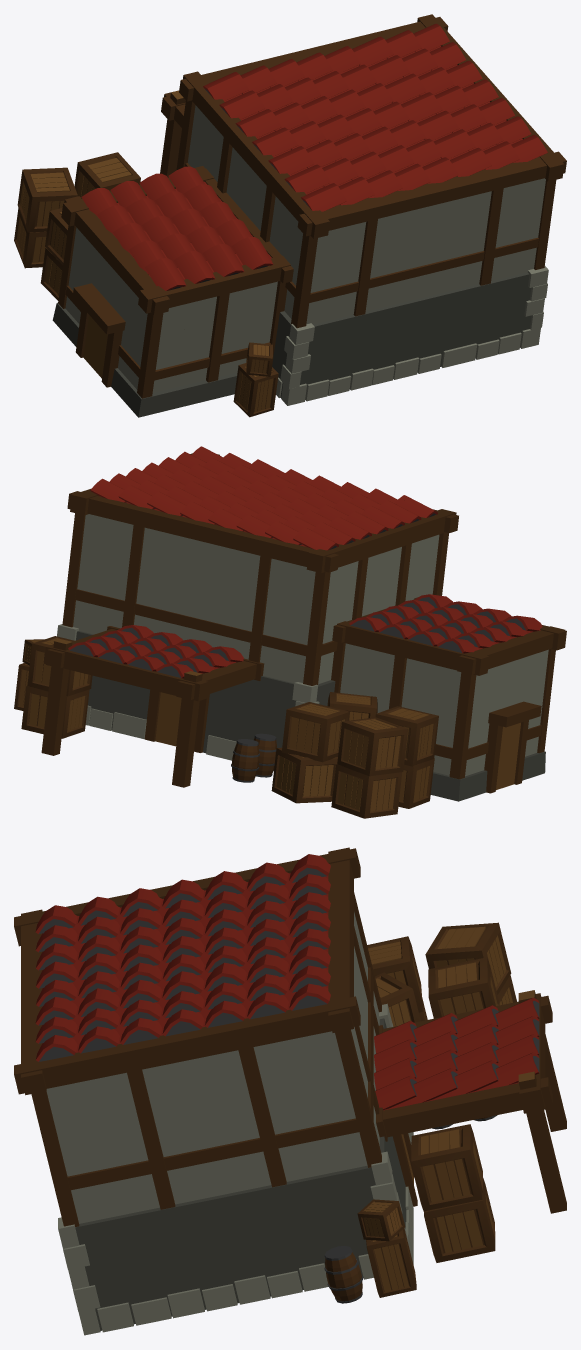
File: Storage_SecondAge_Level3_root.fbx
3 renders of one model, top to bottom at view 1: azimuth 30°, elevation 25°; view 2: azimuth 150°, elevation 25°; view 3: azimuth 270°, elevation 25°, orthographic. The views are drawn at different scales.
Visible parts, largest first — view 1: Storage_SecondAge_Level3_sh_11, Storage_SecondAge_Level3_sh_29, Storage_SecondAge_Level3_sh_26, Storage_SecondAge_Level3_sh_22, Storage_SecondAge_Level3_sh_5, Storage_SecondAge_Level3_sh_1, Storage_SecondAge_Level3_sh_7, Storage_SecondAge_Level3_sh_27, Storage_SecondAge_Level3_sh_8, Storage_SecondAge_Level3_sh_20, Storage_SecondAge_Level3_sh_30, Storage_SecondAge_Level3_sh_19 (+10 smaller); view 2: Storage_SecondAge_Level3_sh_27, Storage_SecondAge_Level3_sh_10, Storage_SecondAge_Level3_sh_20, Storage_SecondAge_Level3_sh_12, Storage_SecondAge_Level3_sh_4, Storage_SecondAge_Level3_sh_13, Storage_SecondAge_Level3_sh_15, Storage_SecondAge_Level3_sh_30, Storage_SecondAge_Level3_sh_6, Storage_SecondAge_Level3_sh_2, Storage_SecondAge_Level3_sh_17, Storage_SecondAge_Level3_sh_19 (+10 smaller); view 3: Storage_SecondAge_Level3_sh_28, Storage_SecondAge_Level3_sh_26, Storage_SecondAge_Level3_sh_17, Storage_SecondAge_Level3_sh_30, Storage_SecondAge_Level3_sh_6, Storage_SecondAge_Level3_sh_9, Storage_SecondAge_Level3_sh_13, Storage_SecondAge_Level3_sh_29, Storage_SecondAge_Level3_sh_10, Storage_SecondAge_Level3_sh_14, Storage_SecondAge_Level3_sh_12, Storage_SecondAge_Level3_sh_4 (+6 smaller).
Part boxes in pixels (<box>): Storage_SecondAge_Level3_sh_11: <box>185,226,341,410</box>; Storage_SecondAge_Level3_sh_29: <box>322,123,512,243</box>; Storage_SecondAge_Level3_sh_26: <box>377,64,546,241</box>; Storage_SecondAge_Level3_sh_22: <box>282,185,418,308</box>; Storage_SecondAge_Level3_sh_5: <box>99,255,197,417</box>; Storage_SecondAge_Level3_sh_1: <box>105,226,271,417</box>; Storage_SecondAge_Level3_sh_7: <box>403,241,514,377</box>; Storage_SecondAge_Level3_sh_27: <box>99,72,241,229</box>; Storage_SecondAge_Level3_sh_8: <box>305,273,431,394</box>; Storage_SecondAge_Level3_sh_20: <box>60,188,154,345</box>; Storage_SecondAge_Level3_sh_30: <box>317,17,477,98</box>; Storage_SecondAge_Level3_sh_19: <box>214,119,324,230</box>; Storage_SecondAge_Level3_sh_27: <box>294,538,464,713</box>; Storage_SecondAge_Level3_sh_10: <box>96,648,335,799</box>; Storage_SecondAge_Level3_sh_20: <box>377,624,533,757</box>; Storage_SecondAge_Level3_sh_12: <box>288,707,431,818</box>; Storage_SecondAge_Level3_sh_4: <box>220,507,325,661</box>; Storage_SecondAge_Level3_sh_13: <box>82,580,256,702</box>; Storage_SecondAge_Level3_sh_15: <box>78,685,266,760</box>; Storage_SecondAge_Level3_sh_30: <box>75,468,243,570</box>; Storage_SecondAge_Level3_sh_6: <box>48,492,121,672</box>; Storage_SecondAge_Level3_sh_2: <box>120,512,221,609</box>; Storage_SecondAge_Level3_sh_17: <box>14,638,86,755</box>; Storage_SecondAge_Level3_sh_19: <box>355,500,437,614</box>; Storage_SecondAge_Level3_sh_28: <box>14,1057,350,1312</box>; Storage_SecondAge_Level3_sh_26: <box>21,959,324,1165</box>; Storage_SecondAge_Level3_sh_17: <box>347,1082,566,1302</box>; Storage_SecondAge_Level3_sh_30: <box>211,917,359,1094</box>; Storage_SecondAge_Level3_sh_6: <box>311,997,549,1210</box>; Storage_SecondAge_Level3_sh_9: <box>38,1123,201,1335</box>; Storage_SecondAge_Level3_sh_13: <box>362,1008,545,1206</box>; Storage_SecondAge_Level3_sh_29: <box>21,911,153,1042</box>; Storage_SecondAge_Level3_sh_10: <box>372,961,566,1131</box>; Storage_SecondAge_Level3_sh_14: <box>131,868,282,974</box>; Storage_SecondAge_Level3_sh_12: <box>378,922,516,1021</box>; Storage_SecondAge_Level3_sh_4: <box>266,858,378,1026</box>.
Bounding box in the file's own units: 5568 × 3216 × 4769.
